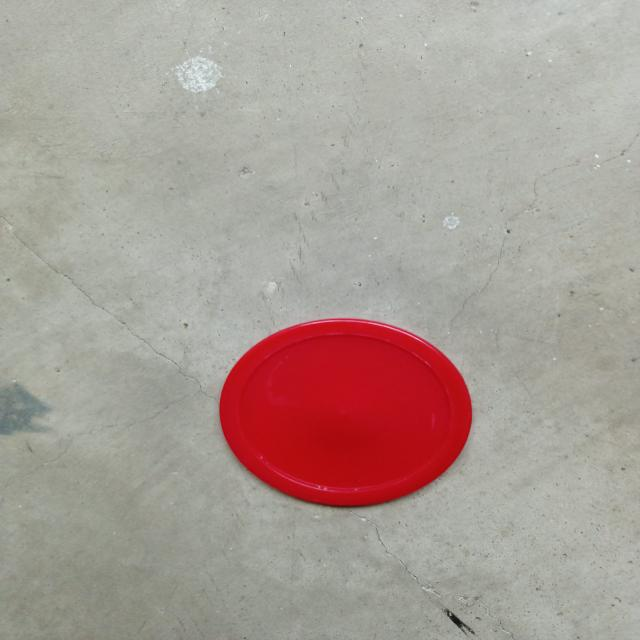chip: (215, 319, 472, 508)
